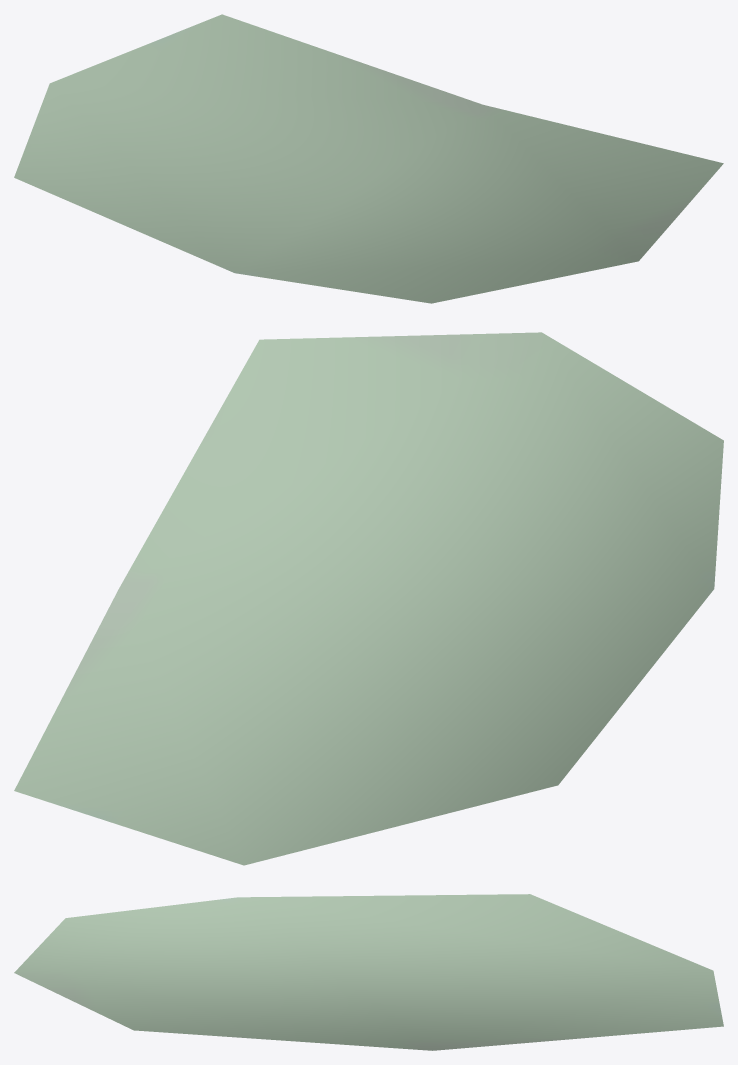
The model's file is TROLLHOLE02_HOLECAP84.fbx.
3 renders of one model, top to bottom at view 1: azimuth 30°, elevation 25°; view 2: azimuth 150°, elevation 25°; view 3: azimuth 270°, elevation 25°, orthographic. The views are drawn at different scales.
Visible parts, largest first — view 1: TROLLHOLE02_HOLECAP84; view 2: TROLLHOLE02_HOLECAP84; view 3: TROLLHOLE02_HOLECAP84.
Boxes of the visible parts, <box> form: TROLLHOLE02_HOLECAP84: <box>14,14,723,303</box>; TROLLHOLE02_HOLECAP84: <box>14,332,723,865</box>; TROLLHOLE02_HOLECAP84: <box>14,894,723,1050</box>.
Size of the model in its own units: 11985 by 2185 by 18372.
1 material, 1 textured.
